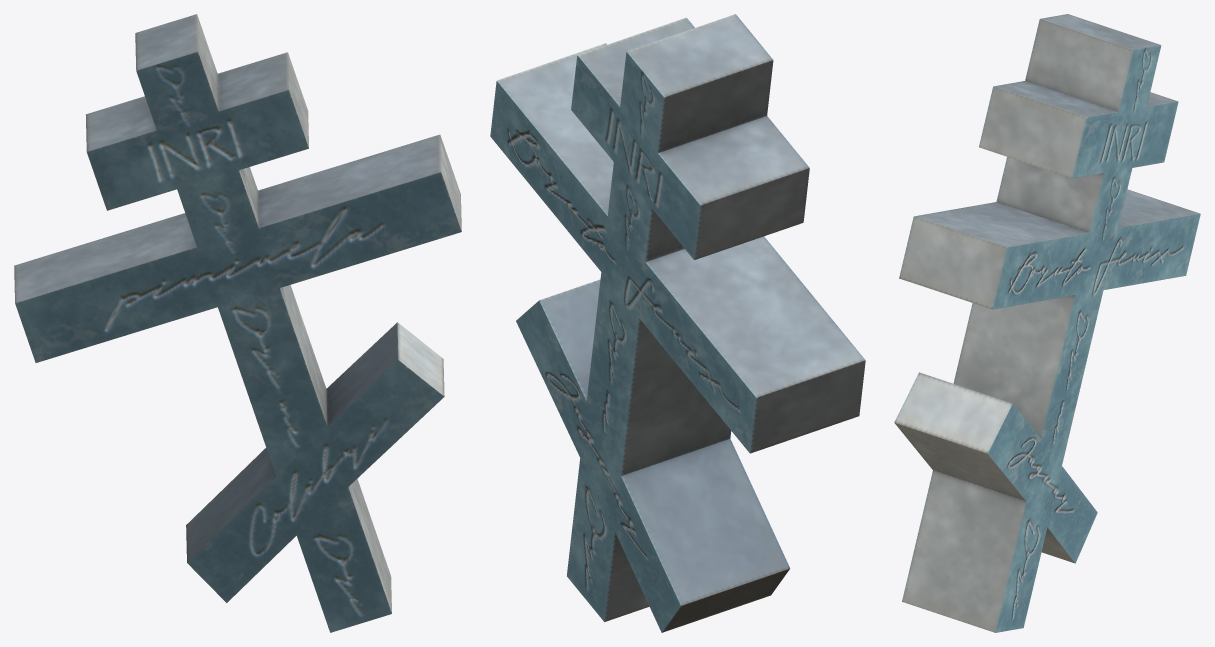
3 views of the same model, side by side, from view 1: azimuth 30°, elevation 25°; view 2: azimuth 150°, elevation 25°; view 3: azimuth 270°, elevation 25° (orthographic). The views are drawn at different scales.
Parts seen in each view (by area): view 1: Cruz_Orto_Cube.011; view 2: Cruz_Orto_Cube.011; view 3: Cruz_Orto_Cube.011.
Part boxes in pixels (box(x1,y1,x2,y2)): Cruz_Orto_Cube.011: box(14, 14, 461, 632); Cruz_Orto_Cube.011: box(490, 14, 865, 632); Cruz_Orto_Cube.011: box(894, 14, 1200, 632).
Bounding box in the file's own units: 1.92 × 2.69 × 1.36.
